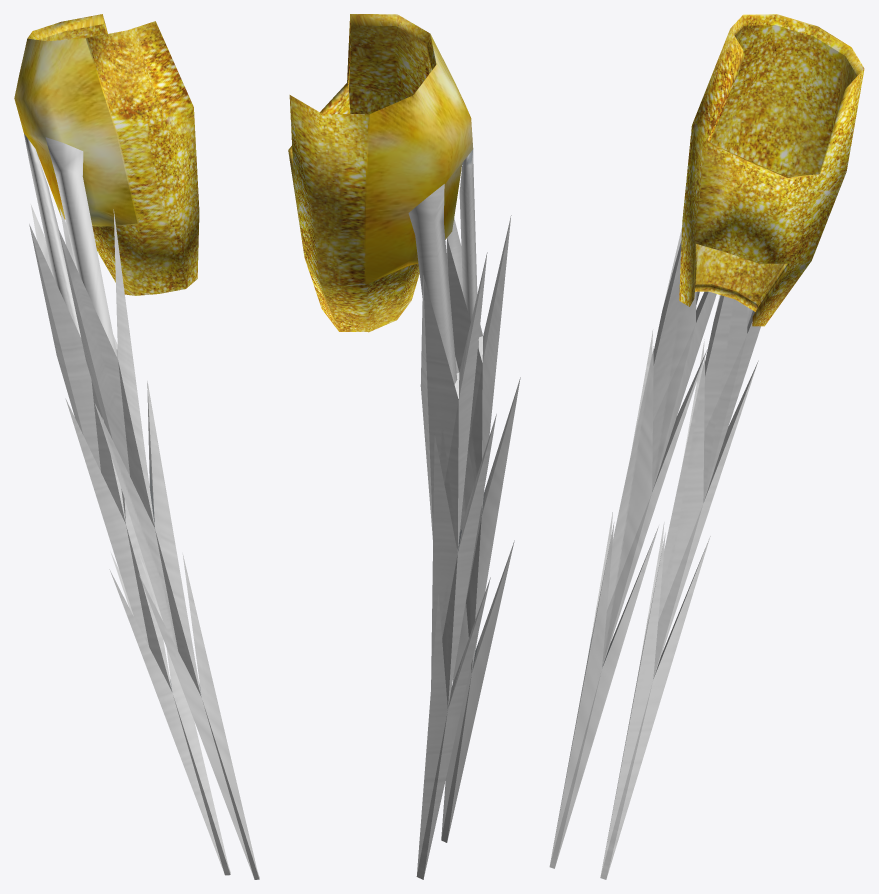
The model's file is Armor_Arm_Right.obj.
The picture shows the model from 3 angles, left to right: view 1: azimuth 30°, elevation 25°; view 2: azimuth 150°, elevation 25°; view 3: azimuth 270°, elevation 25°; orthographic projection. The views are drawn at different scales.
Parts seen in each view (by area): view 1: Armor_Arm_Right.006_Circle.026; view 2: Armor_Arm_Right.006_Circle.026; view 3: Armor_Arm_Right.006_Circle.026.
Part boxes in pixels (<box>): Armor_Arm_Right.006_Circle.026: <box>14,14,259,879</box>; Armor_Arm_Right.006_Circle.026: <box>288,14,520,879</box>; Armor_Arm_Right.006_Circle.026: <box>549,14,864,879</box>.
Bounding box in the file's own units: 3.33 × 16.5 × 5.67.
